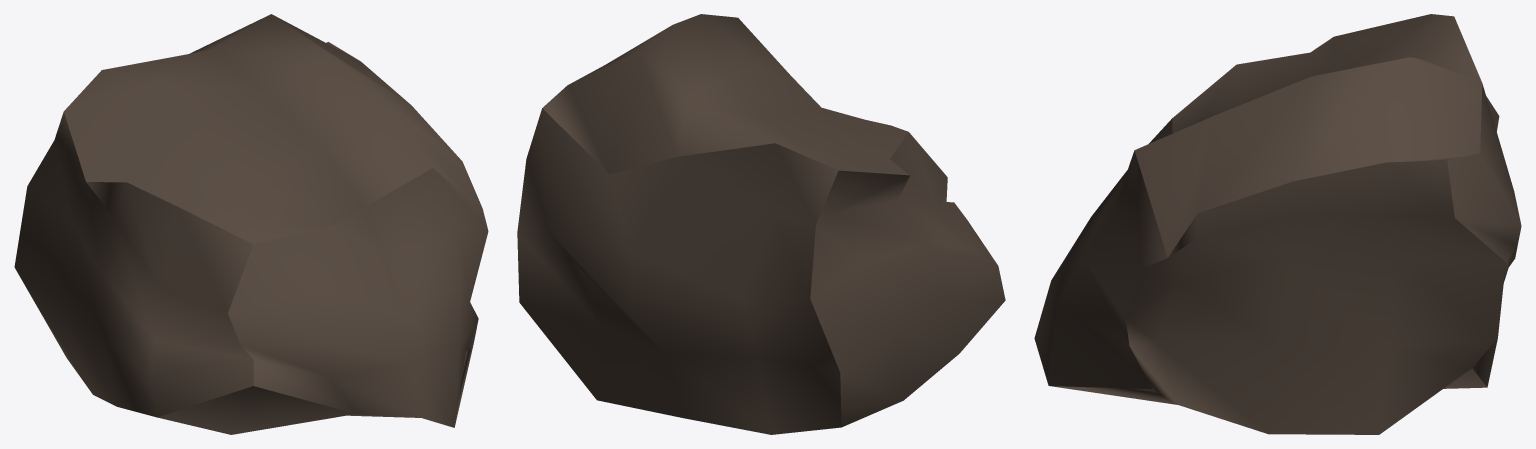
The model's file is Rock2.fbx.
3 views of the same model, side by side, from view 1: azimuth 30°, elevation 25°; view 2: azimuth 150°, elevation 25°; view 3: azimuth 270°, elevation 25° (orthographic). The views are drawn at different scales.
Visible parts, largest first — view 1: Rock2; view 2: Rock2; view 3: Rock2.
Boxes of the visible parts, box(x1,y1,x2,y2) form: Rock2: box(14, 14, 488, 434); Rock2: box(517, 14, 1005, 434); Rock2: box(1034, 14, 1521, 434).
Bounding box in the file's own units: 34.63 × 30.35 × 40.71.
